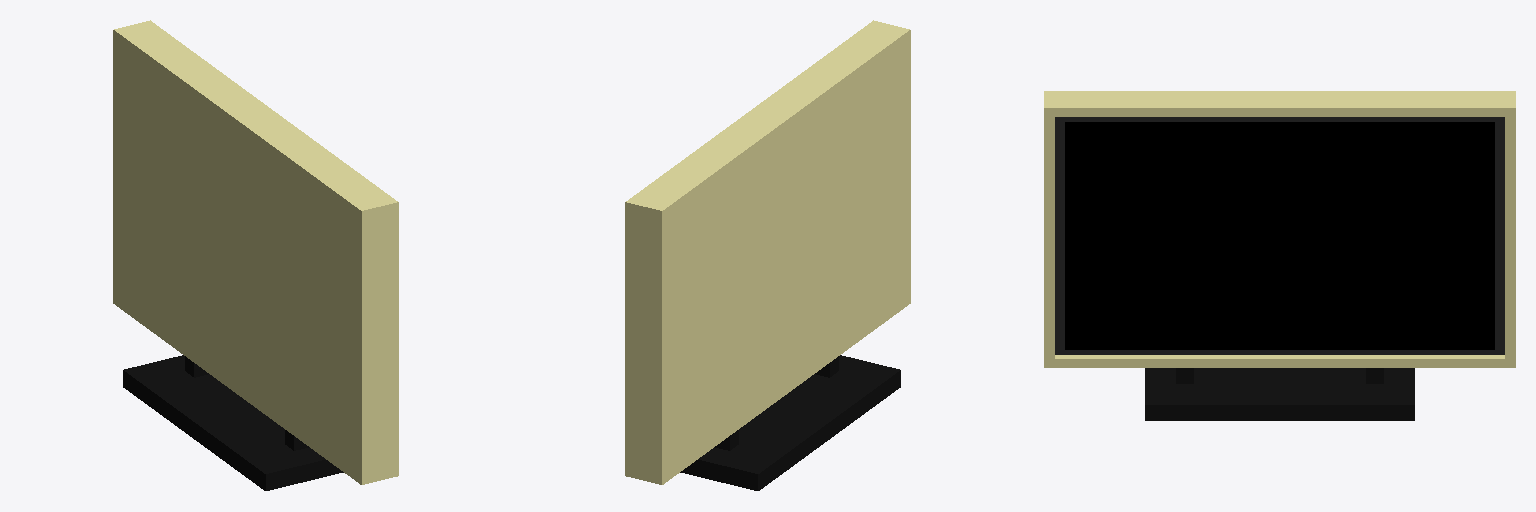
The robot description file, URDF, robot "room602-plasmatv2":
<?xml version="1.0"?>
<robot name="room602-plasmatv2"
       xmlns:xi="http://www.w3.org/2001/XInclude"
       xmlns:gazebo="http://playerstage.sourceforge.net/gazebo/xmlschema/#gz"
       xmlns:model="http://playerstage.sourceforge.net/gazebo/xmlschema/#model"
       xmlns:sensor="http://playerstage.sourceforge.net/gazebo/xmlschema/#sensor"
       xmlns:body="http://playerstage.sourceforge.net/gazebo/xmlschema/#body"
       xmlns:geom="http://playerstage.sourceforge.net/gazebo/xmlschema/#geom"
       xmlns:joint="http://playerstage.sourceforge.net/gazebo/xmlschema/#joint"
       xmlns:interface="http://playerstage.sourceforge.net/gazebo/xmlschema/#interface"
       xmlns:rendering="http://playerstage.sourceforge.net/gazebo/xmlschema/#rendering"
       xmlns:renderable="http://playerstage.sourceforge.net/gazebo/xmlschema/#renderable"
       xmlns:controller="http://playerstage.sourceforge.net/gazebo/xmlschema/#controller"
       xmlns:physics="http://playerstage.sourceforge.net/gazebo/xmlschema/#physics">
  <gazebo>
    <static>false</static>
  </gazebo>
  <link name="nil_link">
    <visual>
      <origin xyz="0 0 0" rpy="0 -0 0"/>
      <geometry>
        <mesh filename="model://room602-plasmatv2/meshes/nil_link_mesh.dae" scale="1 1 1" />
      </geometry>
    </visual>
    <collision>
      <origin xyz="0 0 0" rpy="0 -0 0"/>
      <geometry>
        <mesh filename="model://room602-plasmatv2/meshes/nil_link_mesh.dae" scale="1 1 1" />
      </geometry>
    </collision>
    <inertial>
      <mass value="0.001" />
      <origin xyz="0 0 0" rpy="0 -0 0"/>
      <inertia ixx="1e-09" ixy="0" ixz="0" iyy="1e-09" iyz="0" izz="1e-09"/>
    </inertial>
  </link>
  <gazebo reference="nil_link">
    <mu1>0.9</mu1>
    <mu2>0.9</mu2>
  </gazebo>
</robot>

--- Render facts (derived) ---
Views: 3 orthographic renders of the robot side by side, from view 1: azimuth 30°, elevation 25°; view 2: azimuth 150°, elevation 25°; view 3: azimuth 270°, elevation 25°.
Robot: room602-plasmatv2 — 1 links, 0 joints (none); root link nil_link; default pose: all joints at 0.
Links seen in each view (by area): view 1: nil_link; view 2: nil_link; view 3: nil_link.
Boxes of the visible links, box(x1,y1,x2,y2) form: nil_link: box(113, 20, 398, 490); nil_link: box(625, 20, 910, 490); nil_link: box(1044, 91, 1515, 420).
Size in the robot's own frame: 0.3 by 1.04 by 0.7155 metres.
1 mesh visuals loaded from 1 distinct referenced files (1 Collada DAE).
